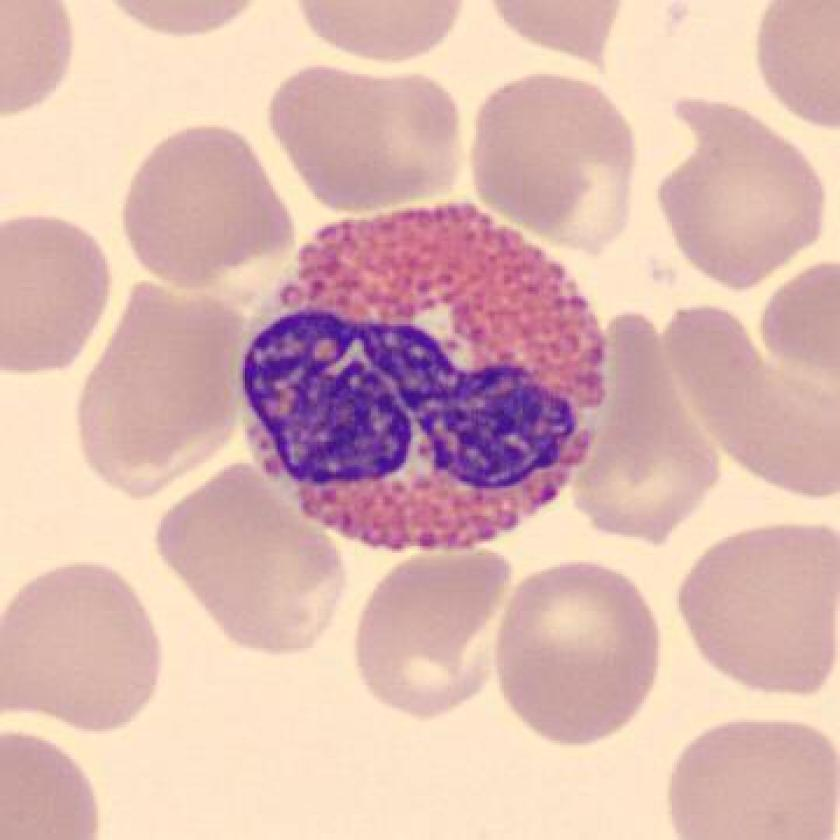eosinophil: (230, 184, 624, 568)
